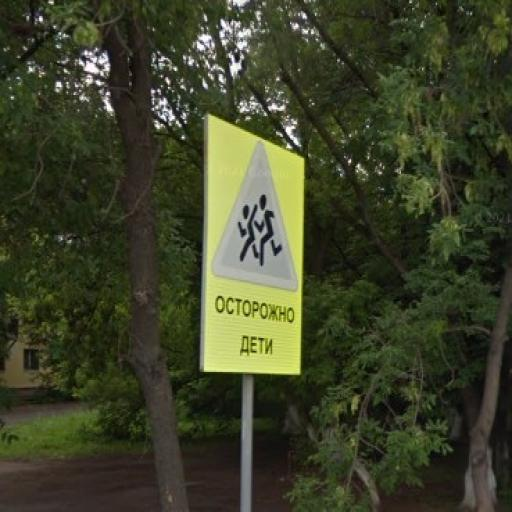traffic_sign: (209, 138, 304, 297)
